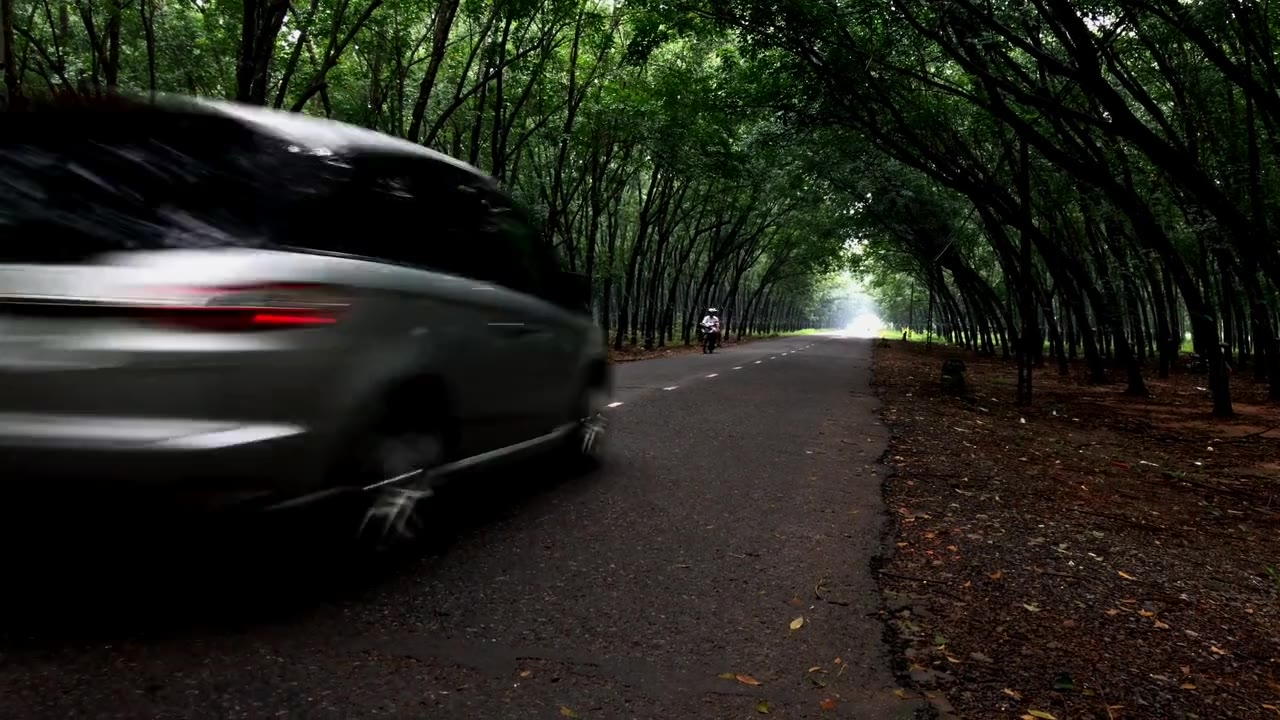car: (1, 89, 613, 572)
motorbicycle: (700, 305, 720, 353)
